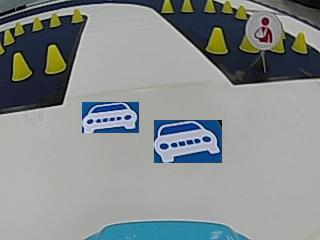cone: (205, 27, 229, 54), (44, 45, 66, 74), (11, 52, 32, 80), (239, 32, 258, 53), (292, 31, 307, 53), (70, 8, 84, 23), (3, 29, 15, 44), (160, 0, 173, 13), (49, 13, 61, 27), (235, 5, 247, 19), (181, 0, 193, 13), (32, 17, 43, 31), (204, 0, 215, 13), (14, 21, 24, 35), (221, 1, 232, 13)
patient: (250, 14, 275, 44)
